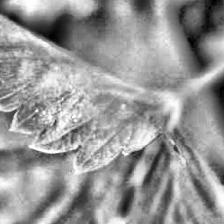Powdery Mildew Leaf: (0, 0, 184, 174), (98, 128, 224, 224)
